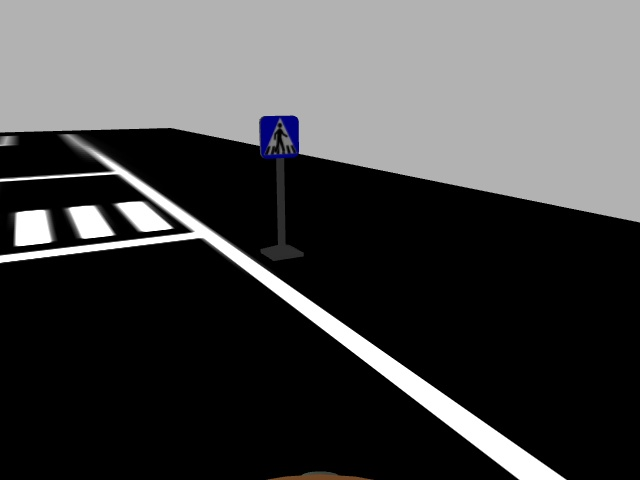crosswalk: (258, 113, 302, 161)
